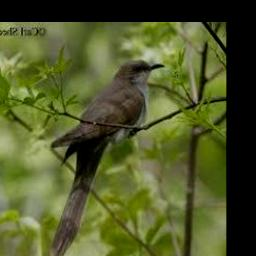Cuckoo: (50, 60, 165, 256)
